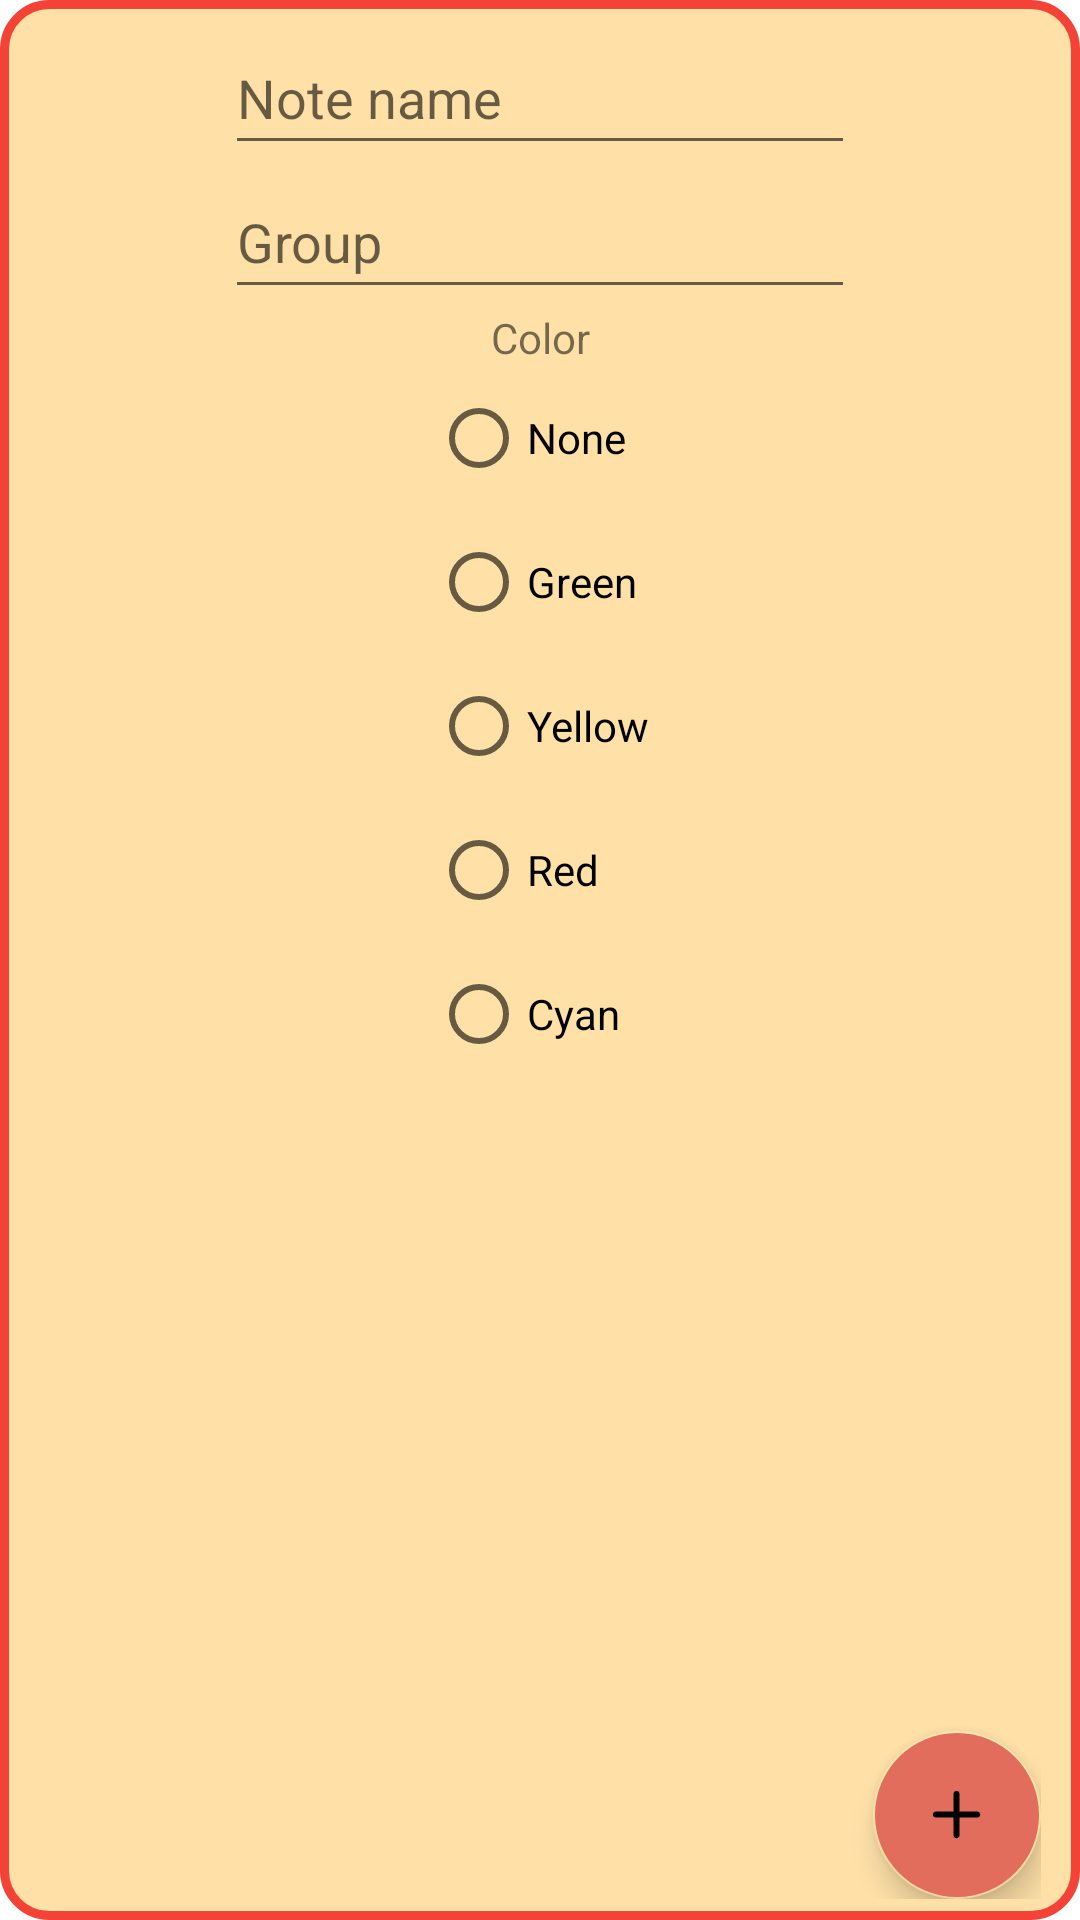

Named icons in this screenshot (1080*1920) and their centers, point (x, y):
plus: point (958, 1816)
